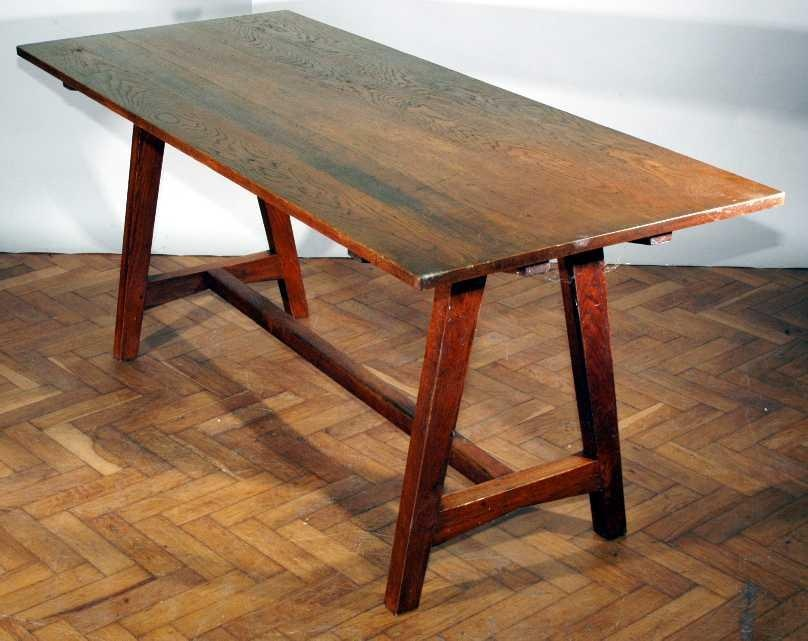obstacle: (18, 11, 782, 612)
